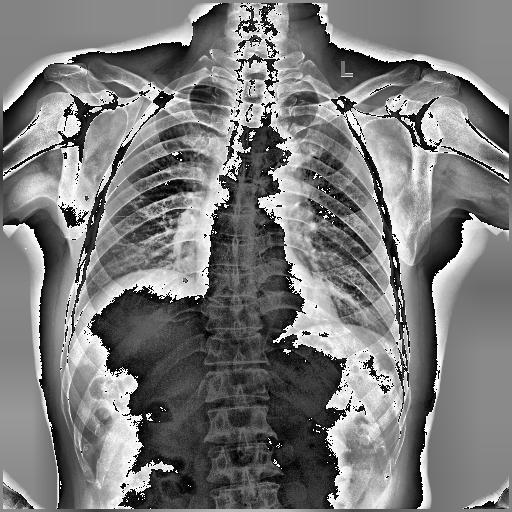0- Aortic enlargement: (246, 125, 300, 196), (252, 130, 302, 196), (250, 128, 301, 192)
11- Pleural thickening: (292, 90, 340, 112)
9- Other lesion: (84, 194, 88, 202)
